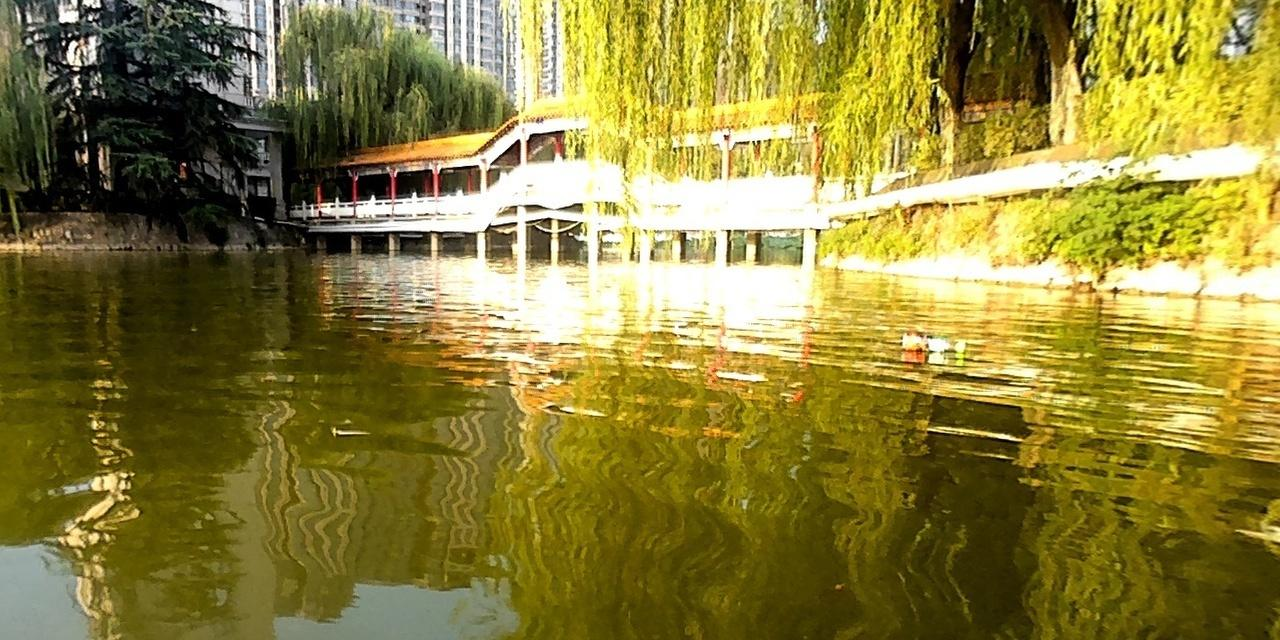bottle: (897, 328, 966, 352)
